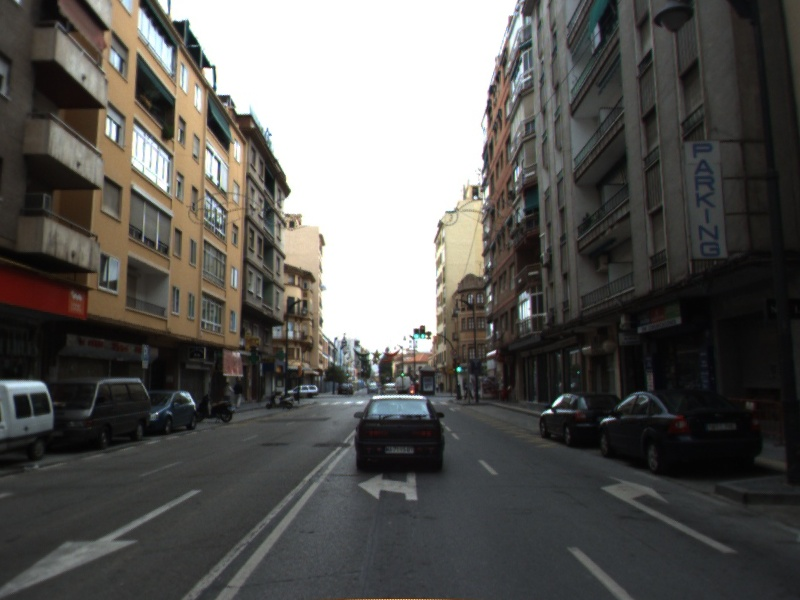RIGHT: (599, 474, 740, 555)
STRAIGHT_LEFT: (356, 470, 419, 502)
